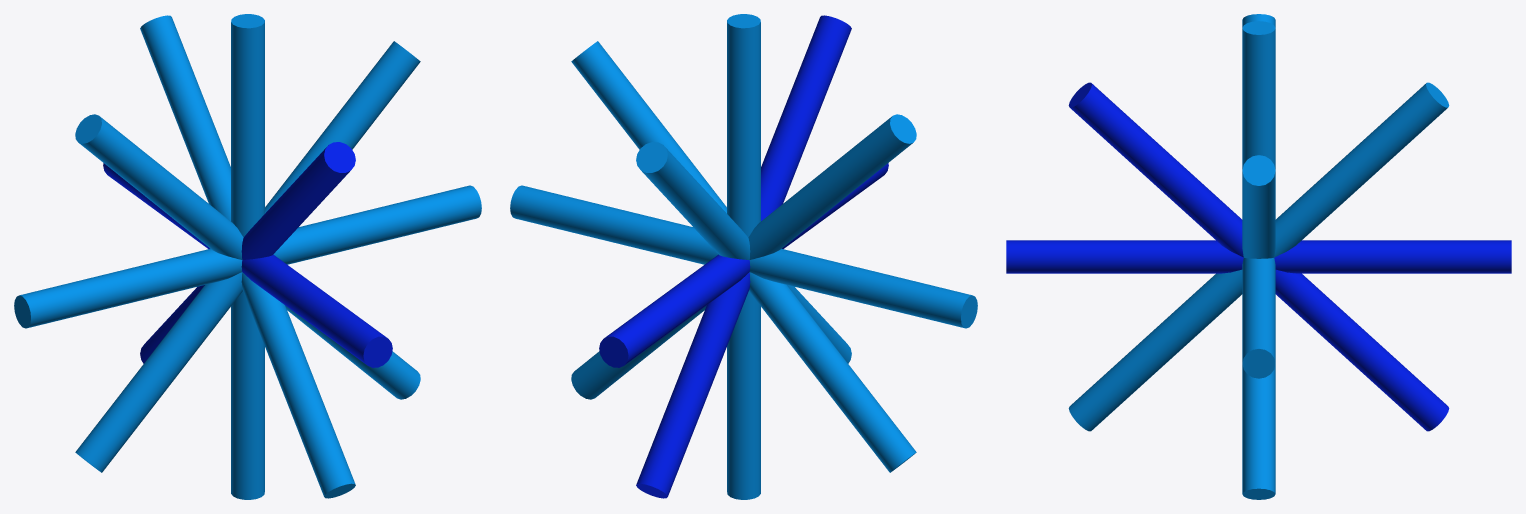
3 renders of one model, left to right at view 1: azimuth 30°, elevation 25°; view 2: azimuth 150°, elevation 25°; view 3: azimuth 270°, elevation 25°, orthographic. The views are drawn at different scales.
Parts seen in each view (by area): view 1: Cylinder.001, Cylinder.007, Cylinder, Cylinder.003, Cylinder.002, Cylinder.005, Cylinder.006; view 2: Cylinder.001, Cylinder.006, Cylinder, Cylinder.003, Cylinder.002, Cylinder.005, Cylinder.007; view 3: Cylinder.005, Cylinder.006, Cylinder.007, Cylinder, Cylinder.002, Cylinder.001, Cylinder.003.
Boxes of the visible parts, bbox=[...] form: Cylinder.001: bbox=[14, 185, 481, 328]; Cylinder.007: bbox=[140, 15, 355, 498]; Cylinder: bbox=[231, 14, 264, 499]; Cylinder.003: bbox=[75, 41, 420, 472]; Cylinder.002: bbox=[75, 114, 420, 399]; Cylinder.005: bbox=[103, 163, 392, 367]; Cylinder.006: bbox=[140, 142, 355, 363]; Cylinder.001: bbox=[510, 185, 977, 328]; Cylinder.006: bbox=[636, 15, 851, 498]; Cylinder: bbox=[727, 14, 760, 499]; Cylinder.003: bbox=[571, 41, 916, 472]; Cylinder.002: bbox=[571, 114, 916, 399]; Cylinder.005: bbox=[599, 163, 888, 367]; Cylinder.007: bbox=[636, 142, 851, 363]; Cylinder.005: bbox=[1006, 240, 1511, 273]; Cylinder.006: bbox=[1068, 82, 1449, 431]; Cylinder.007: bbox=[1068, 82, 1449, 431]; Cylinder: bbox=[1242, 21, 1275, 169]; Cylinder.002: bbox=[1242, 14, 1275, 499]; Cylinder.001: bbox=[1242, 258, 1275, 378]; Cylinder.003: bbox=[1242, 155, 1275, 258].
Size of the model in its own units: 692 by 692 by 692.
